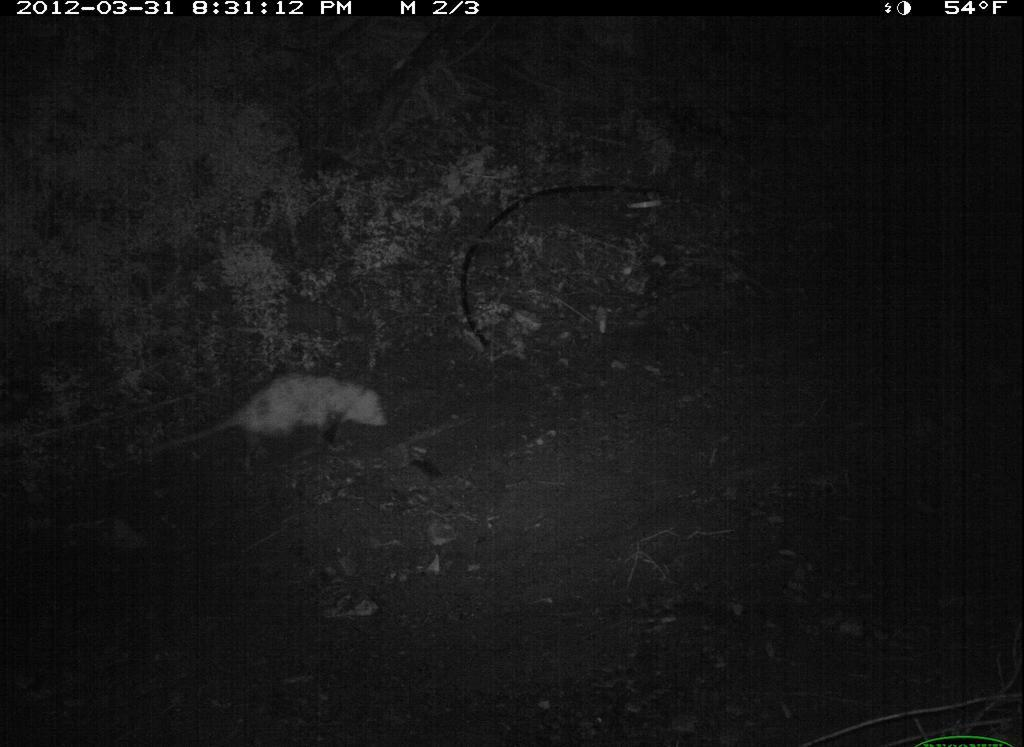opossum: (116, 370, 396, 469)
